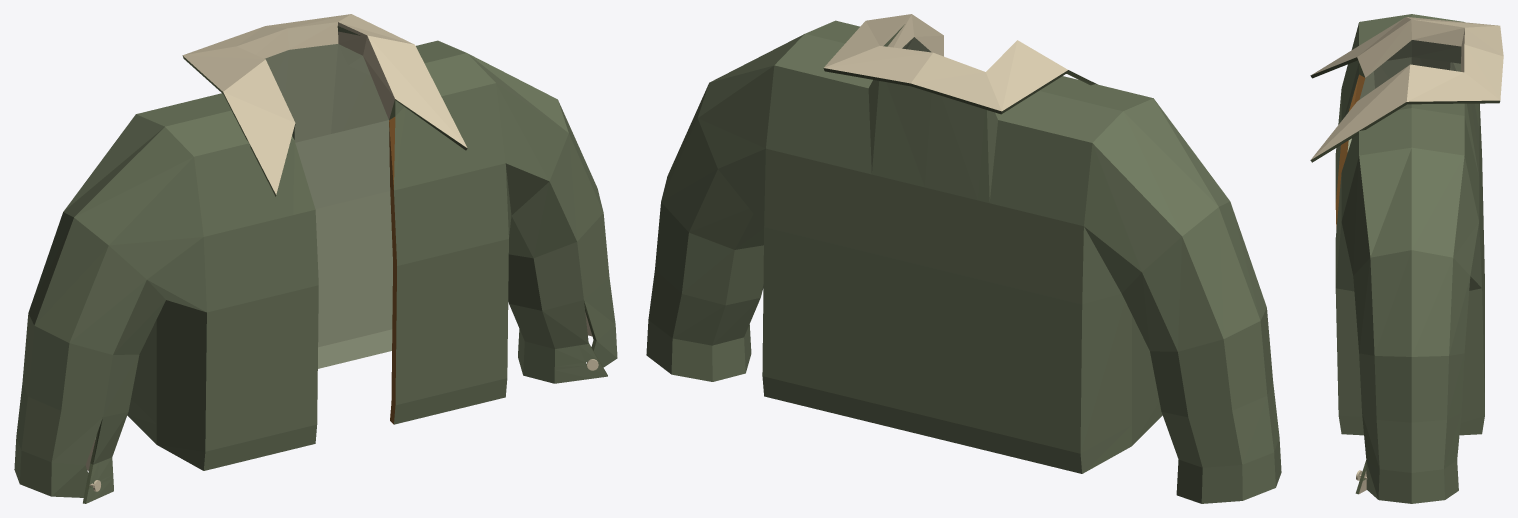
Rendered from finish.obj.
The picture shows the model from 3 angles, left to right: view 1: azimuth 30°, elevation 25°; view 2: azimuth 150°, elevation 25°; view 3: azimuth 270°, elevation 25°; orthographic projection. The views are drawn at different scales.
Parts seen in each view (by area): view 1: body_sleeve_outer, body_front_panel_outer, body_back_panel_inner, body_front_facing_outer, collar_undercollar_inner, body_side_panel_outer, body_back_yoke_inner, body_shoulder_outer, body_hem_band_outer, collar_stand_inner, left_cuff_sleeve_slit_outer, right_cuff_sleeve_slit_outer (+9 smaller); view 2: body_back_panel_outer, body_sleeve_outer, body_back_yoke_outer, body_side_panel_outer, collar_undercollar_inner, body_shoulder_outer, body_hem_band_outer, left_cuff_sleeve_outer, right_cuff_cuff_band_outer, left_cuff_cuff_band_outer, collar_stand_inner, collar_collar_rim_rim; view 3: body_sleeve_outer, collar_undercollar_inner, body_side_panel_outer, body_shoulder_outer, right_cuff_cuff_band_outer, collar_stand_inner, body_front_panel_outer, body_back_yoke_outer, body_sleeve_inner, body_shoulder_inner, body_back_panel_outer, collar_collar_rim_rim (+4 smaller).
Part boxes in pixels (x1,y1,x2,y2): body_sleeve_outer: [22, 53, 609, 417]; body_front_panel_outer: [194, 83, 508, 451]; body_back_panel_inner: [295, 120, 392, 347]; body_front_facing_outer: [286, 107, 419, 448]; collar_undercollar_inner: [183, 14, 467, 194]; body_side_panel_outer: [127, 300, 206, 470]; body_back_yoke_inner: [265, 44, 388, 142]; body_shoulder_outer: [136, 40, 495, 156]; body_hem_band_outer: [203, 378, 507, 470]; collar_stand_inner: [237, 22, 394, 119]; left_cuff_sleeve_slit_outer: [52, 411, 128, 465]; right_cuff_sleeve_slit_outer: [542, 277, 615, 348]; body_back_panel_outer: [762, 148, 1083, 453]; body_sleeve_outer: [648, 34, 1272, 417]; body_back_yoke_outer: [766, 65, 1092, 226]; body_side_panel_outer: [1080, 294, 1162, 473]; collar_undercollar_inner: [824, 14, 1067, 111]; body_shoulder_outer: [774, 20, 1153, 142]; body_hem_band_outer: [762, 376, 1082, 473]; left_cuff_sleeve_outer: [1161, 381, 1279, 467]; right_cuff_cuff_band_outer: [646, 320, 751, 381]; left_cuff_cuff_band_outer: [1176, 438, 1281, 503]; collar_stand_inner: [880, 14, 943, 56]; collar_collar_rim_rim: [823, 68, 1097, 114]; body_sleeve_outer: [1335, 147, 1481, 472]; collar_undercollar_inner: [1311, 17, 1503, 159]; body_side_panel_outer: [1335, 288, 1484, 435]; body_shoulder_outer: [1359, 14, 1464, 155]; right_cuff_cuff_band_outer: [1378, 460, 1458, 503]; collar_stand_inner: [1357, 19, 1464, 77]; body_front_panel_outer: [1335, 23, 1358, 286]; body_back_yoke_outer: [1464, 103, 1479, 221]; body_sleeve_inner: [1347, 57, 1460, 151]; body_shoulder_inner: [1386, 40, 1461, 63]; body_back_panel_outer: [1479, 103, 1484, 406]; collar_collar_rim_rim: [1310, 57, 1500, 162].
Size of the model in its own units: 2.12 by 1.3 by 0.6606.
